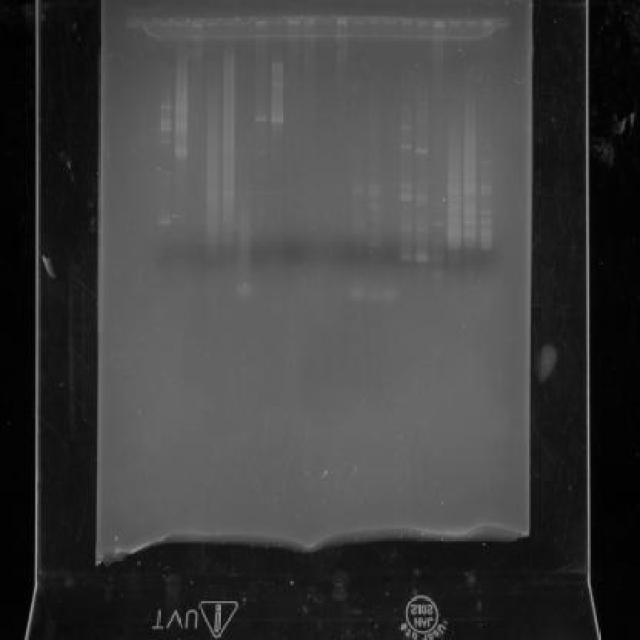B: (382, 284, 400, 304), (345, 283, 363, 302), (236, 283, 253, 300), (364, 284, 380, 302), (463, 216, 477, 227), (398, 192, 413, 202), (414, 253, 430, 262), (398, 252, 412, 262), (174, 148, 188, 157), (463, 230, 477, 239), (463, 240, 477, 249), (431, 220, 446, 228), (270, 115, 284, 123), (478, 242, 492, 250), (478, 208, 492, 216), (414, 194, 428, 202), (415, 147, 428, 155), (479, 218, 493, 225), (158, 218, 171, 225), (398, 226, 413, 232), (158, 126, 172, 132), (414, 202, 430, 207), (255, 116, 268, 122), (159, 118, 172, 124), (400, 144, 412, 150), (480, 183, 492, 189), (478, 189, 492, 194), (400, 125, 412, 130), (158, 122, 172, 126), (158, 105, 171, 109), (158, 140, 171, 143)
L: (122, 7, 515, 36)
Pc: (414, 16, 430, 29), (204, 16, 220, 29), (350, 13, 364, 27), (319, 12, 333, 26), (400, 15, 414, 28), (127, 16, 141, 29), (238, 15, 252, 28), (222, 15, 236, 28), (174, 16, 188, 29), (142, 16, 156, 29), (367, 14, 382, 26), (158, 16, 171, 29), (334, 14, 348, 26), (431, 17, 446, 28), (269, 16, 285, 26), (254, 17, 268, 28), (384, 16, 398, 27), (190, 17, 204, 28), (480, 18, 494, 28), (464, 18, 478, 28), (302, 16, 316, 26), (286, 16, 300, 26), (448, 19, 462, 27), (498, 18, 510, 27)
